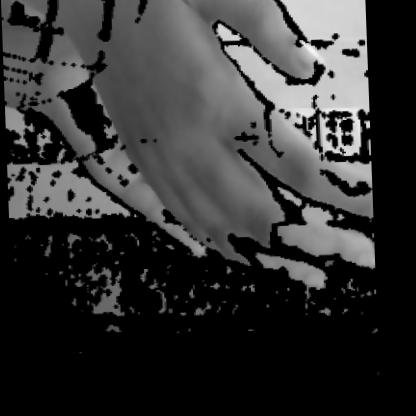dua: (1, 0, 373, 304)
